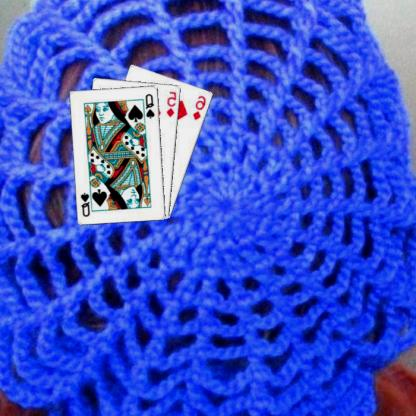5D: (166, 89, 179, 118)
6D: (192, 93, 209, 121)
QS: (145, 91, 158, 119), (80, 190, 92, 218)
